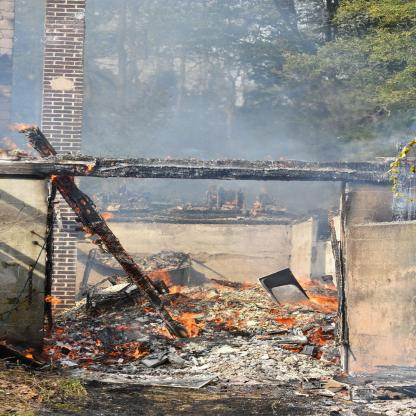fire: (11, 118, 108, 231), (38, 288, 131, 364), (136, 263, 214, 346), (218, 270, 260, 334), (280, 329, 344, 369), (299, 275, 344, 313), (265, 312, 300, 331)
